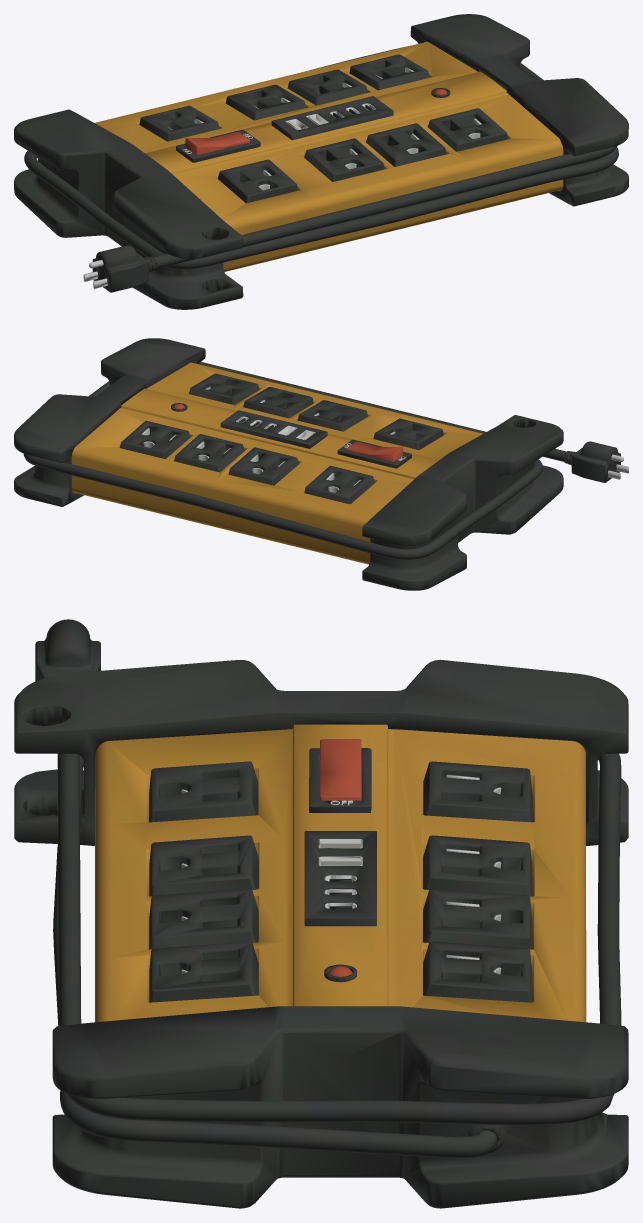
The model's file is SR-equipment_powerStrip_portable_c01.glb.
The picture shows the model from 3 angles, top to bottom: view 1: azimuth 30°, elevation 25°; view 2: azimuth 150°, elevation 25°; view 3: azimuth 270°, elevation 25°; orthographic projection. The views are drawn at different scales.
Parts seen in each view (by area): view 1: outlet_01_mesh_00, button_01_mesh_00; view 2: outlet_01_mesh_00, button_01_mesh_00; view 3: outlet_01_mesh_00, button_01_mesh_00.
Part boxes in pixels (x1=…): outlet_01_mesh_00: x1=14, y1=14, x2=628, y2=309; button_01_mesh_00: x1=185, y1=132, x2=250, y2=154; outlet_01_mesh_00: x1=14, y1=338, x2=628, y2=590; button_01_mesh_00: x1=346, y1=441, x2=402, y2=461; outlet_01_mesh_00: x1=14, y1=619, x2=628, y2=1208; button_01_mesh_00: x1=320, y1=739, x2=361, y2=800.
Bounding box in the file's own units: 0.3094 × 0.0488 × 0.1712.
Materials: 6 (6 with a texture image).
